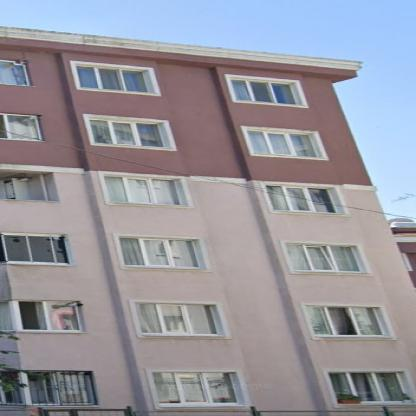window: (135, 302, 217, 334), (153, 372, 237, 403), (118, 237, 199, 268), (329, 372, 410, 401), (306, 306, 383, 335), (1, 302, 80, 330), (88, 118, 164, 146), (104, 176, 180, 204), (0, 234, 70, 264), (286, 244, 361, 272), (246, 129, 319, 157), (264, 185, 336, 213), (26, 373, 91, 404), (77, 66, 149, 92), (230, 79, 298, 105), (0, 114, 40, 140), (0, 61, 29, 85)
